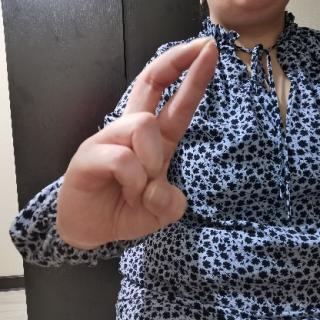ZAY: (52, 29, 222, 258)
